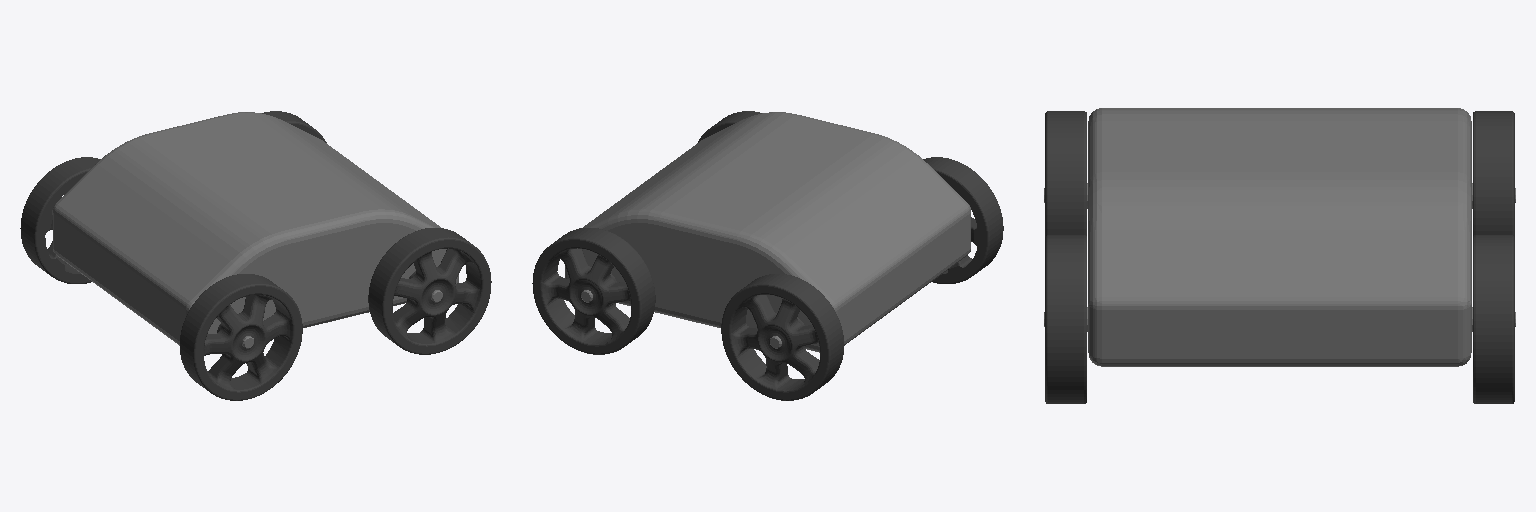
The robot description file, URDF, robot "petricor_platform":
<?xml version="1.0" encoding="utf-8"?>
<!-- This URDF was automatically created by SolidWorks to URDF Exporter! Originally created by [author] ([email redacted]) 
     Commit Version: 1.6.0-1-g15f4949  Build Version: 1.6.7594.29634
     For more information, please see http://wiki.ros.org/sw_urdf_exporter -->
<robot
  name="petricor_platform">
  <link
    name="base_link">
    <inertial>
      <origin
        xyz="-4.87809042607272E-17 -2.29618809443724E-17 0.0879972764105627"
        rpy="0 0 0" />
      <mass
        value="5.87636303944341" />
      <inertia
        ixx="0.0760058697508826"
        ixy="1.4007807365218E-17"
        ixz="-4.91658511235952E-18"
        iyy="0.0517448560797098"
        iyz="-9.02756484418171E-19"
        izz="0.113814268741791" />
    </inertial>
    <visual>
      <origin
        xyz="0 0 0"
        rpy="0 0 0" />
      <geometry>
        <mesh
          filename="package://petricor_platform/meshes/base_link.STL" />
      </geometry>
      <material
        name="">
        <color
          rgba="0.501960784313725 0.501960784313725 0.501960784313725 1" />
      </material>
    </visual>
    <collision>
      <origin
        xyz="0 0 0"
        rpy="0 0 0" />
      <geometry>
        <mesh
          filename="package://petricor_platform/meshes/base_link.STL" />
      </geometry>
    </collision>
  </link>
  <link
    name="wheel_FL">
    <inertial>
      <origin
        xyz="-0.015313 1.0317E-10 -6.0577E-11"
        rpy="0 0 0" />
      <mass
        value="0.2085" />
      <inertia
        ixx="0.00044907"
        ixy="-3.2704E-13"
        ixz="4.029E-13"
        iyy="0.00023777"
        iyz="-1.0058E-11"
        izz="0.00023777" />
    </inertial>
    <visual>
      <origin
        xyz="0 0 0"
        rpy="0 0 0" />
      <geometry>
        <mesh
          filename="package://petricor_platform/meshes/wheel_FL.STL" />
      </geometry>
      <material
        name="">
        <color
          rgba="0.29804 0.29804 0.29804 1" />
      </material>
    </visual>
    <collision>
      <origin
        xyz="0 0 0"
        rpy="0 0 0" />
      <geometry>
        <mesh
          filename="package://petricor_platform/meshes/wheel_FL.STL" />
      </geometry>
    </collision>
  </link>
  <joint
    name="wheel_FL_rev"
    type="continuous">
    <origin
      xyz="0.10549 0.169 0.061"
      rpy="-0.33421 0 1.5708" />
    <parent
      link="base_link" />
    <child
      link="wheel_FL" />
    <axis
      xyz="-1 0 0" />
    <limit
      lower="0"
      upper="0"
      effort="1000000"
      velocity="1000" />
  </joint>
  <link
    name="wheel_FR">
    <inertial>
      <origin
        xyz="-0.015313 1.0317E-10 -6.0577E-11"
        rpy="0 0 0" />
      <mass
        value="0.2085" />
      <inertia
        ixx="0.00044907"
        ixy="-3.2704E-13"
        ixz="4.029E-13"
        iyy="0.00023777"
        iyz="1.788E-11"
        izz="0.00023777" />
    </inertial>
    <visual>
      <origin
        xyz="0 0 0"
        rpy="0 0 0" />
      <geometry>
        <mesh
          filename="package://petricor_platform/meshes/wheel_FR.STL" />
      </geometry>
      <material
        name="">
        <color
          rgba="0.29804 0.29804 0.29804 1" />
      </material>
    </visual>
    <collision>
      <origin
        xyz="0 0 0"
        rpy="0 0 0" />
      <geometry>
        <mesh
          filename="package://petricor_platform/meshes/wheel_FR.STL" />
      </geometry>
    </collision>
  </link>
  <joint
    name="wheel_FR_rev"
    type="continuous">
    <origin
      xyz="0.10549 -0.169 0.061"
      rpy="-2.9492 0 -1.5708" />
    <parent
      link="base_link" />
    <child
      link="wheel_FR" />
    <axis
      xyz="-1 0 0" />
    <limit
      lower="0"
      upper="0"
      effort="1000000"
      velocity="1000" />
  </joint>
  <link
    name="wheel_BL">
    <inertial>
      <origin
        xyz="-0.015313 1.0317E-10 -6.0577E-11"
        rpy="0 0 0" />
      <mass
        value="0.2085" />
      <inertia
        ixx="0.00044907"
        ixy="-3.2704E-13"
        ixz="4.029E-13"
        iyy="0.00023777"
        iyz="-3.5686E-13"
        izz="0.00023777" />
    </inertial>
    <visual>
      <origin
        xyz="0 0 0"
        rpy="0 0 0" />
      <geometry>
        <mesh
          filename="package://petricor_platform/meshes/wheel_BL.STL" />
      </geometry>
      <material
        name="">
        <color
          rgba="0.29804 0.29804 0.29804 1" />
      </material>
    </visual>
    <collision>
      <origin
        xyz="0 0 0"
        rpy="0 0 0" />
      <geometry>
        <mesh
          filename="package://petricor_platform/meshes/wheel_BL.STL" />
      </geometry>
    </collision>
  </link>
  <joint
    name="wheel_BL_rev"
    type="continuous">
    <origin
      xyz="-0.10549 0.169 0.061"
      rpy="0.82175 0 1.5708" />
    <parent
      link="base_link" />
    <child
      link="wheel_BL" />
    <axis
      xyz="-1 0 0" />
    <limit
      lower="0"
      upper="0"
      effort="1000000"
      velocity="1000" />
  </joint>
  <link
    name="wheel_BR">
    <inertial>
      <origin
        xyz="-0.015313 1.0317E-10 -6.0577E-11"
        rpy="0 0 0" />
      <mass
        value="0.2085" />
      <inertia
        ixx="0.00044907"
        ixy="-3.2704E-13"
        ixz="4.0289E-13"
        iyy="0.00023777"
        iyz="-8.8928E-12"
        izz="0.00023777" />
    </inertial>
    <visual>
      <origin
        xyz="0 0 0"
        rpy="0 0 0" />
      <geometry>
        <mesh
          filename="package://petricor_platform/meshes/wheel_BR.STL" />
      </geometry>
      <material
        name="">
        <color
          rgba="0.29804 0.29804 0.29804 1" />
      </material>
    </visual>
    <collision>
      <origin
        xyz="0 0 0"
        rpy="0 0 0" />
      <geometry>
        <mesh
          filename="package://petricor_platform/meshes/wheel_BR.STL" />
      </geometry>
    </collision>
  </link>
  <joint
    name="wheel_BR_rev"
    type="continuous">
    <origin
      xyz="-0.10549 -0.169 0.061"
      rpy="0.53438 0 -1.5708" />
    <parent
      link="base_link" />
    <child
      link="wheel_BR" />
    <axis
      xyz="-1 0 0" />
    <limit
      lower="0"
      upper="0"
      effort="1000000"
      velocity="1000" />
  </joint>
</robot>

--- Facts derived from the render (not from the file) ---
The picture shows the robot from 3 angles, left to right: view 1: azimuth 30°, elevation 25°; view 2: azimuth 150°, elevation 25°; view 3: azimuth 270°, elevation 25°; orthographic projection.
Robot: petricor_platform — 5 links, 4 joints (4 continuous); root link base_link; default pose: all joints at 0.
Links seen in each view (by area): view 1: base_link, wheel_FR, wheel_BR, wheel_BL; view 2: base_link, wheel_FL, wheel_BL, wheel_BR; view 3: base_link, wheel_FL, wheel_FR, wheel_BL, wheel_BR.
Boxes of the visible links, bbox=[...] form: base_link: bbox=[53, 112, 458, 348]; wheel_FR: bbox=[368, 228, 491, 354]; wheel_BR: bbox=[180, 274, 302, 400]; wheel_BL: bbox=[20, 157, 100, 283]; base_link: bbox=[565, 112, 970, 352]; wheel_FL: bbox=[532, 228, 655, 354]; wheel_BL: bbox=[721, 274, 843, 400]; wheel_BR: bbox=[923, 157, 1003, 283]; base_link: bbox=[1044, 108, 1515, 366]; wheel_FL: bbox=[1473, 235, 1514, 403]; wheel_FR: bbox=[1045, 235, 1086, 403]; wheel_BL: bbox=[1473, 111, 1514, 236]; wheel_BR: bbox=[1045, 111, 1086, 236].
Size in the robot's own frame: 0.333 by 0.3392 by 0.1496 metres.
5 mesh visuals loaded from 5 distinct referenced files (5 binary STL).